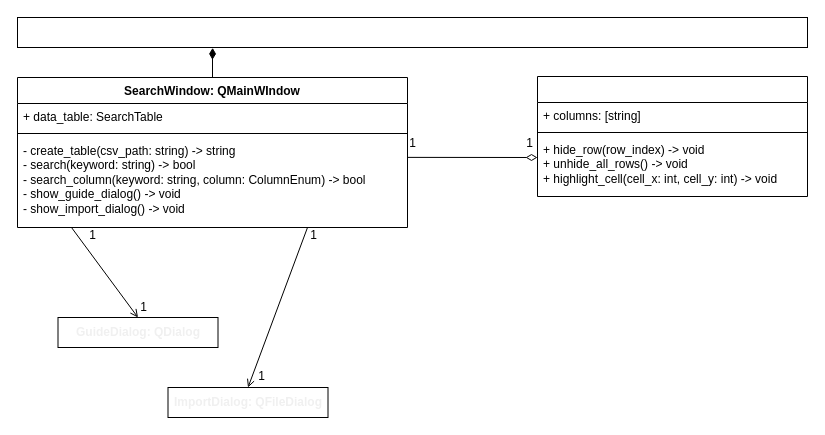
Some shapes in this 825 by 435 pixel diagram are drawn without their labels. Each missing label, with the box of its shape:
CSV Searcher: (16, 16, 808, 48)
SearchTable: QTableWidget: (536, 76, 808, 196)
